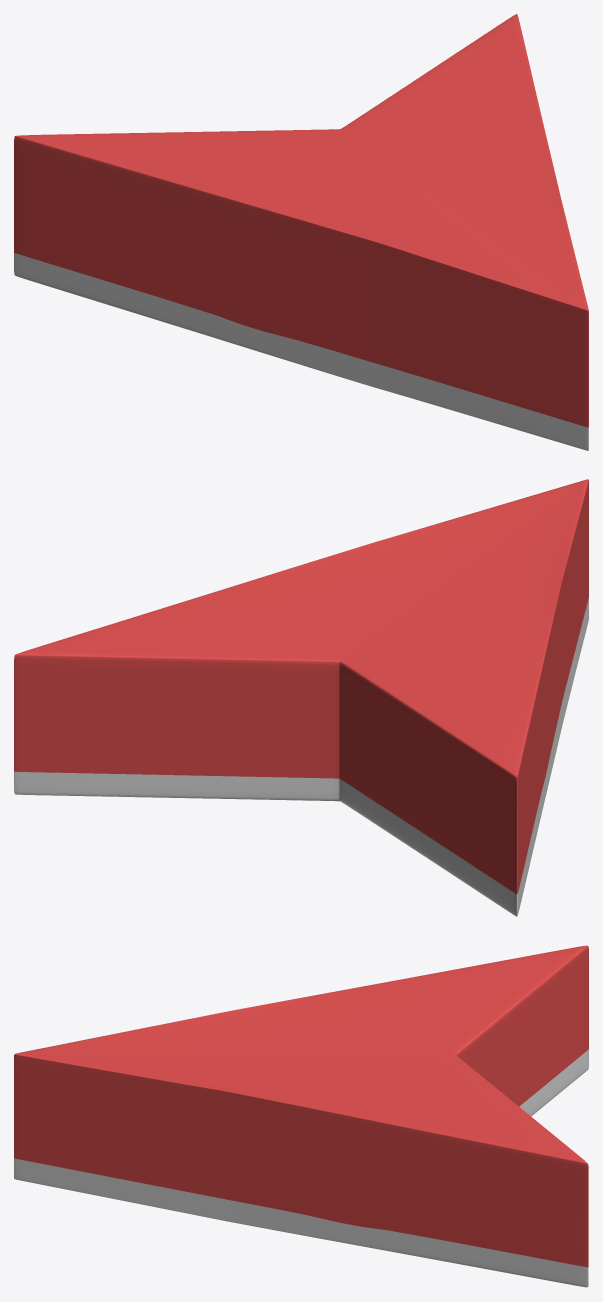
The model's file is arrowSmooth.fbx.
3 renders of one model, top to bottom at view 1: azimuth 30°, elevation 25°; view 2: azimuth 150°, elevation 25°; view 3: azimuth 270°, elevation 25°, orthographic. The views are drawn at different scales.
Visible parts, largest first — view 1: pCube1; view 2: pCube1; view 3: pCube1.
Part boxes in pixels (x1,y1,x2,y2): pCube1: (14, 14, 588, 450); pCube1: (14, 479, 588, 916); pCube1: (14, 945, 588, 1287).
Size of the model in its own units: 0.8949 by 0.2488 by 0.9961.
